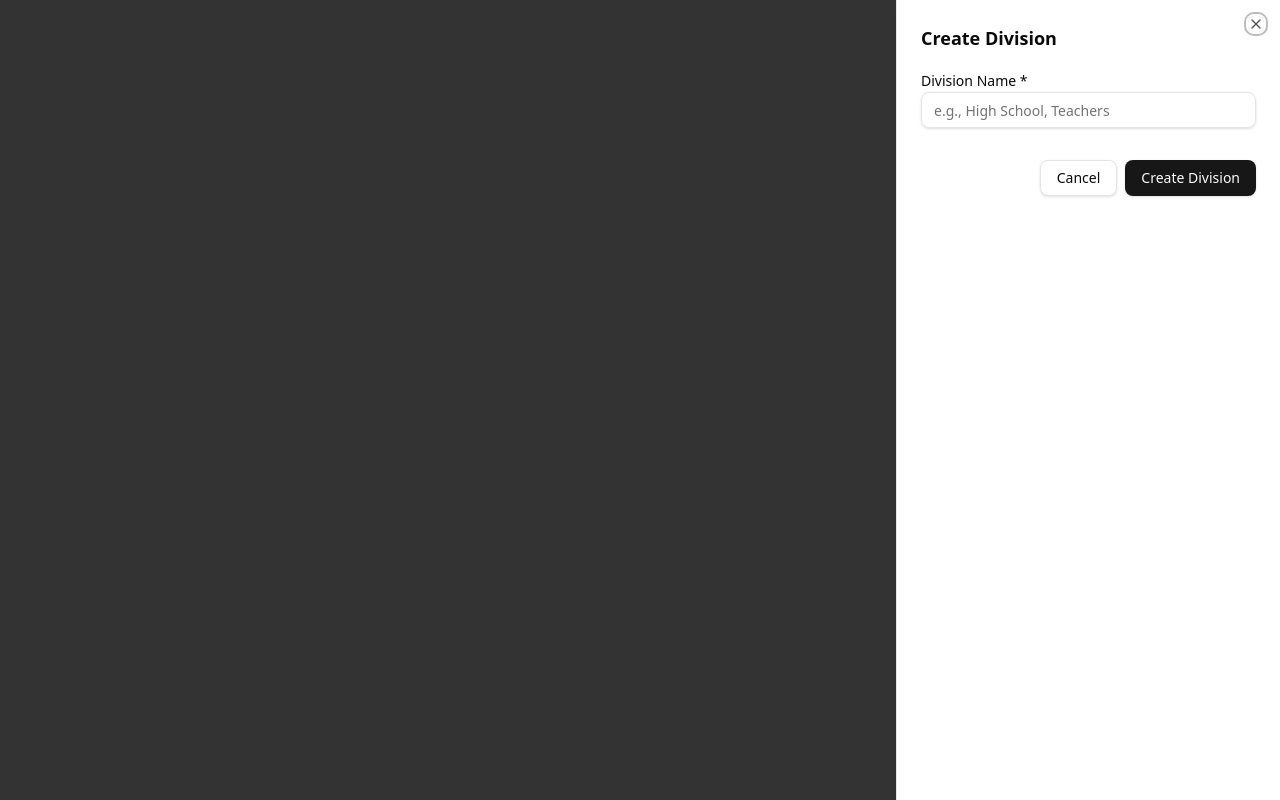
it: CreateDivisionSheet › Form validation (AC3) › shows error when name is empty on blur
Click the field labelled "Division Name *" at point(1088, 110), box [921,92,1256,128]
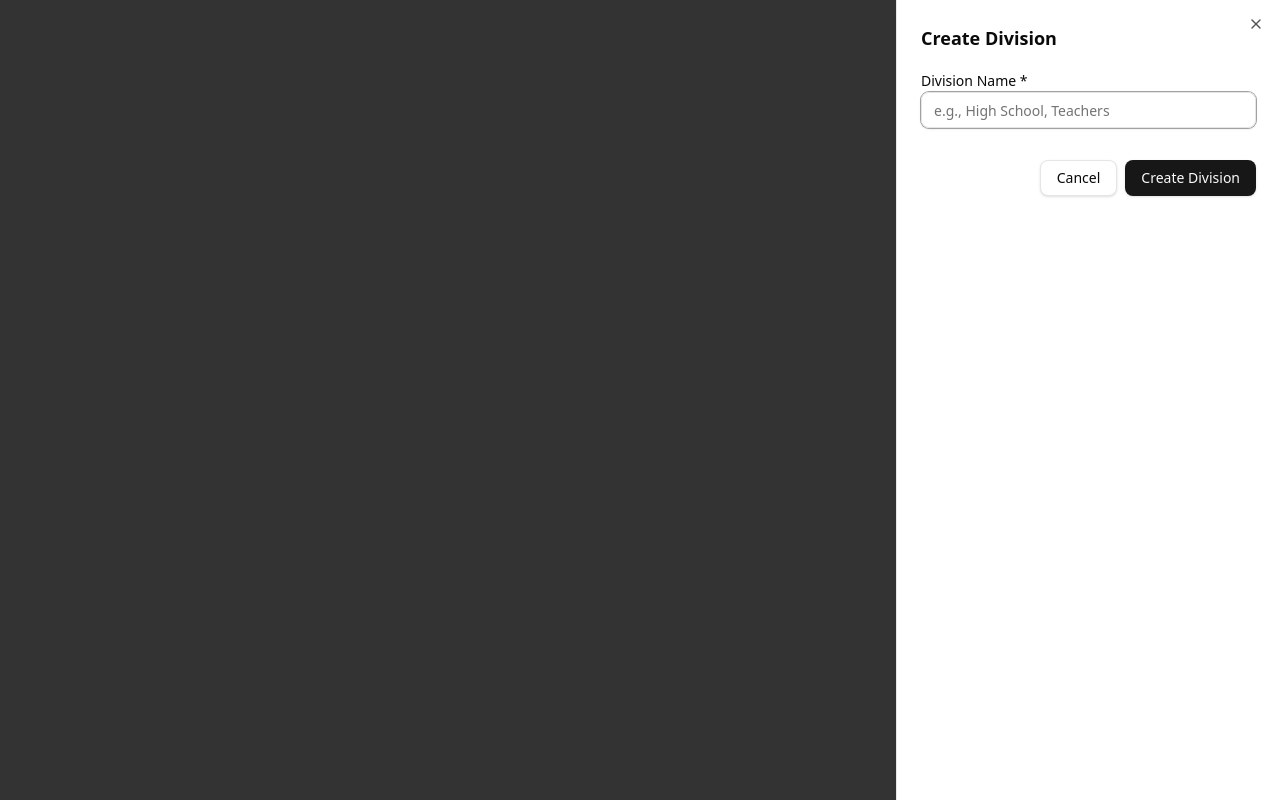
Press Tab
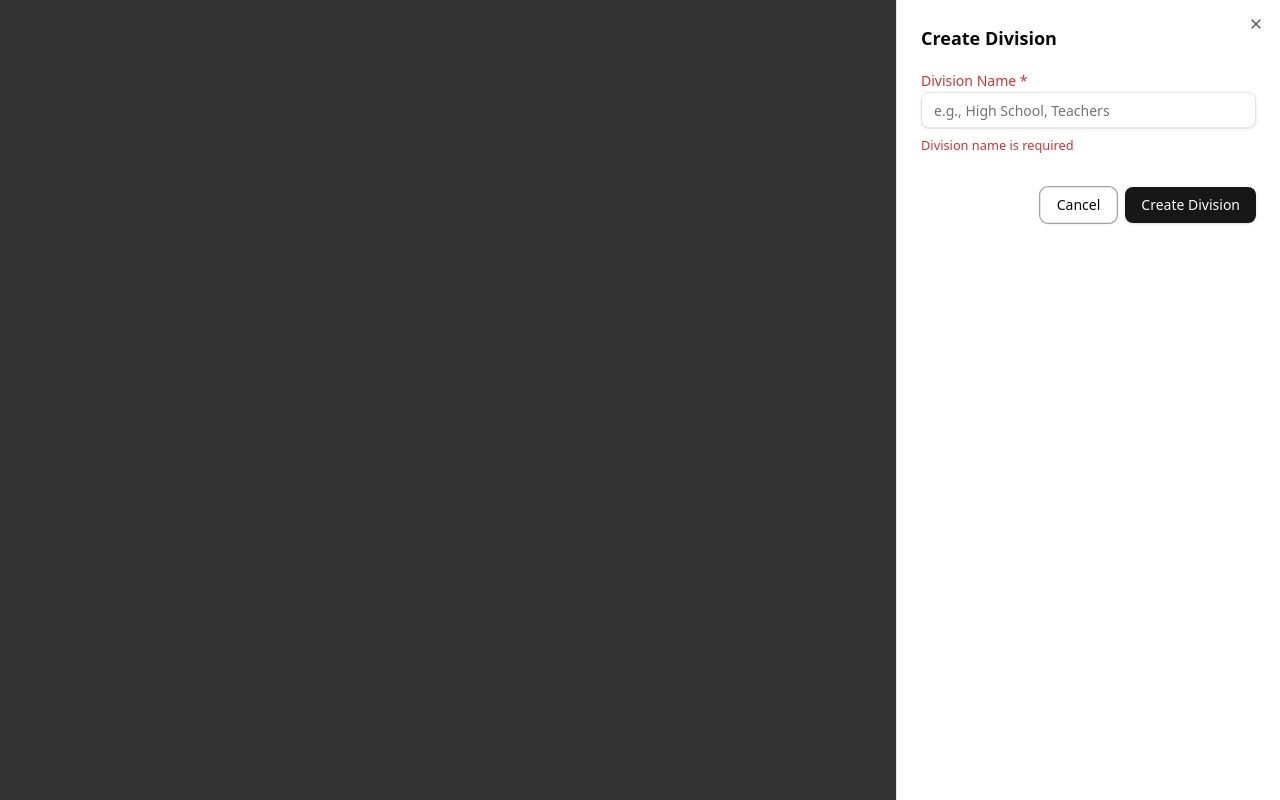
Expected: the text "Division name is required" is shown, [921,136,1074,154]
